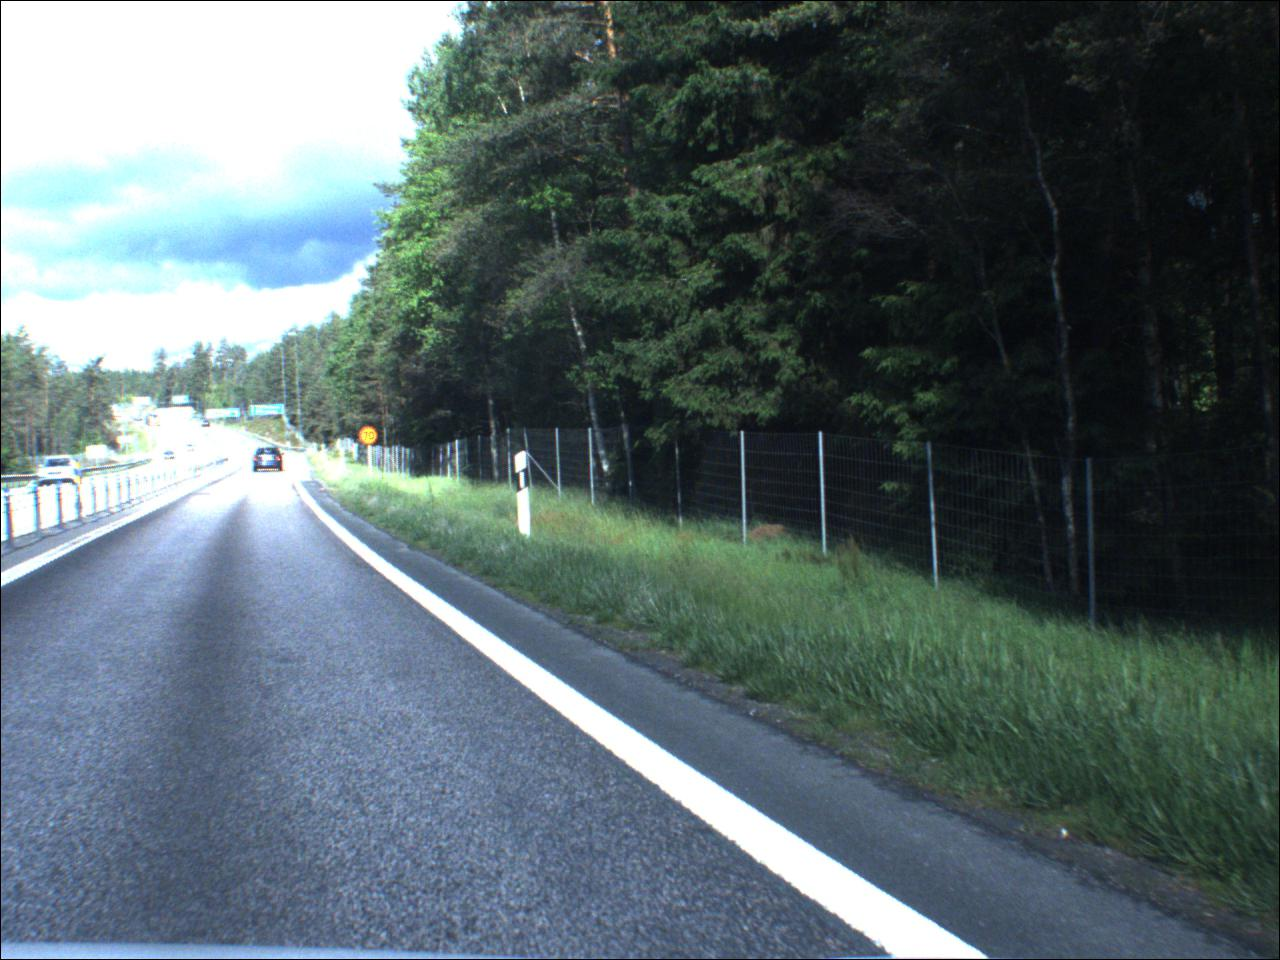70_SIGN: (360, 428, 381, 448)
